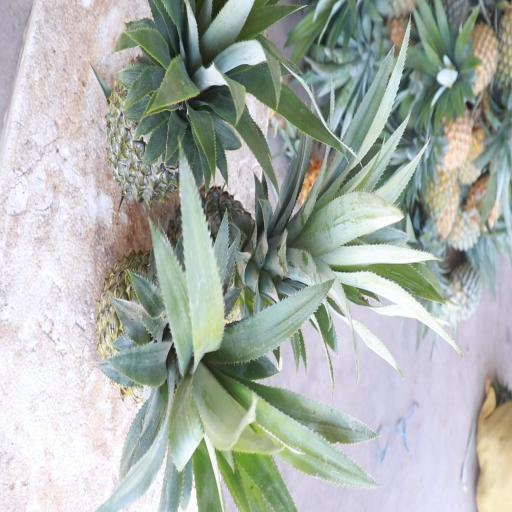------------------------------: (95, 245, 255, 411)
Pineapple - v8 v1: (448, 16, 499, 96), (429, 105, 476, 164)
